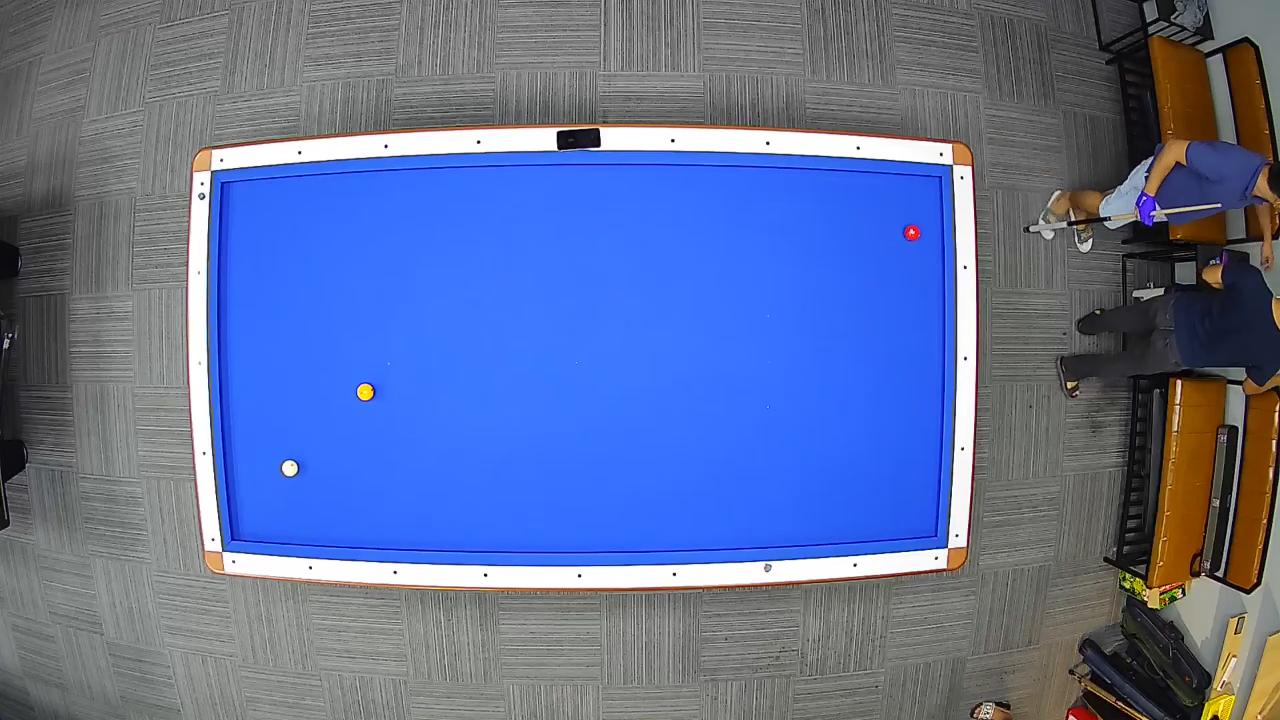Red: (902, 224, 922, 243)
White: (280, 458, 300, 479)
Yellow: (356, 382, 376, 402)
